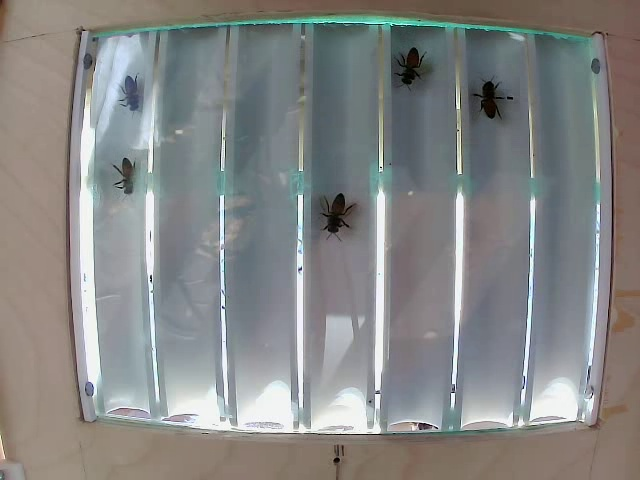bee: (307, 191, 372, 240), (466, 83, 510, 128), (404, 52, 445, 97), (109, 165, 152, 199), (113, 80, 150, 108)
